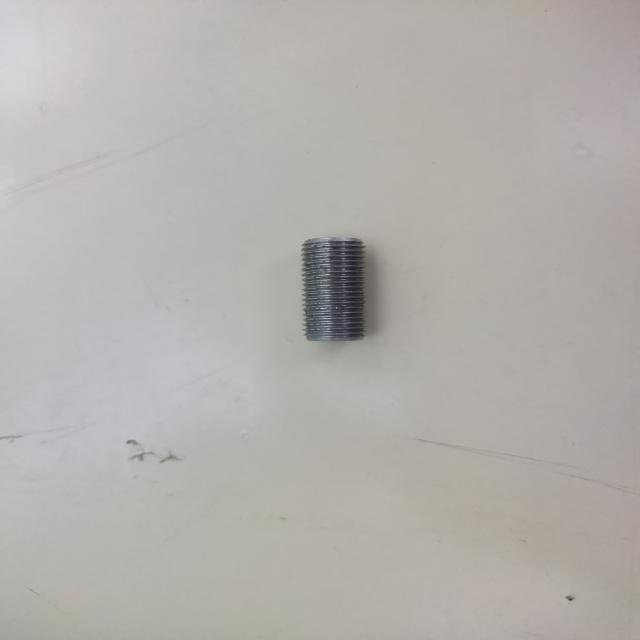Normal: (298, 234, 371, 346)
